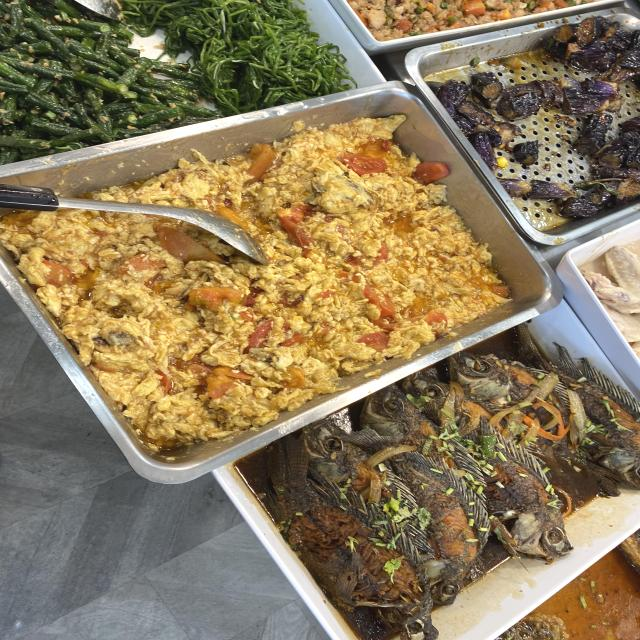Scramble Egg with Tomatoes: (279, 198, 439, 340)
